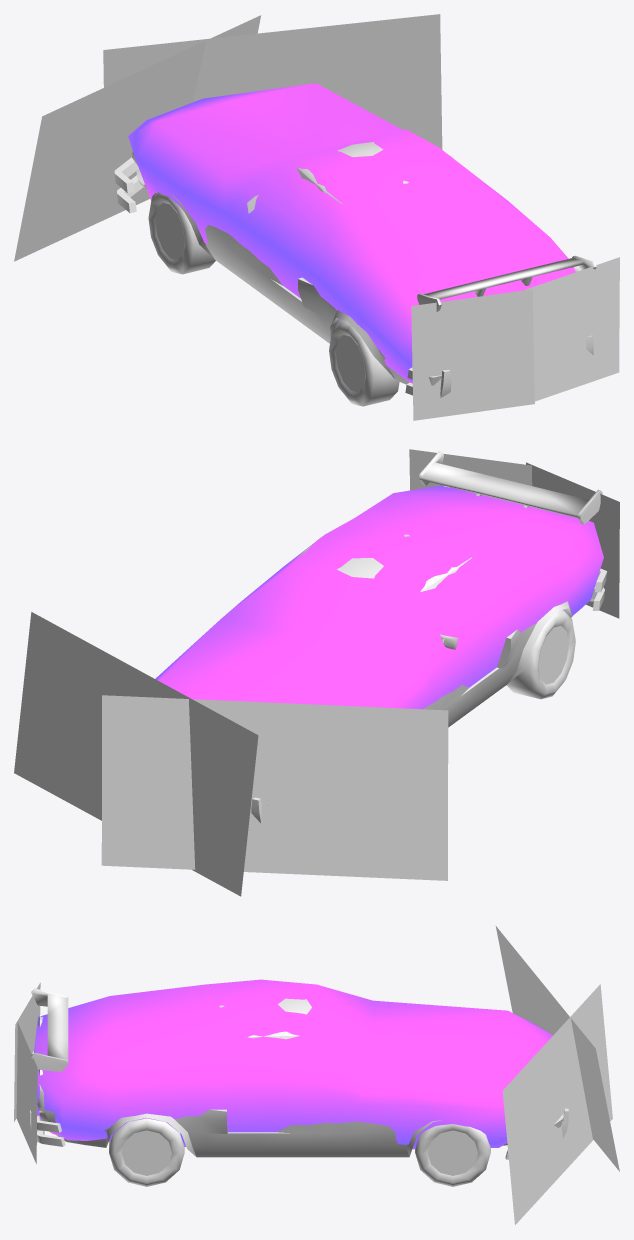
The model's file is Mustang.fbx.
The picture shows the model from 3 angles, top to bottom: view 1: azimuth 30°, elevation 25°; view 2: azimuth 150°, elevation 25°; view 3: azimuth 270°, elevation 25°; orthographic projection. The views are drawn at different scales.
Visible parts, largest first — view 1: MustangProxy, MustangFrontLights, MustangRearLights, Mustang, MustangWheel_LB, MustangWheel_LF, MustangSpoiler1, MustangFrontBumper2, MustangRearBumper2; view 2: MustangFrontLights, MustangProxy, MustangRearLights, Mustang, MustangSpoiler1, MustangWheel_LB; view 3: MustangProxy, MustangFrontLights, Mustang, MustangWheel_RB, MustangWheel_RF, MustangRearLights, MustangSpoiler1, MustangRearBumper2.
Boxes of the visible parts, <box> form: MustangProxy: <box>128,83,575,383</box>; MustangFrontLights: <box>14,14,442,261</box>; MustangRearLights: <box>411,257,619,420</box>; Mustang: <box>132,113,453,384</box>; MustangWheel_LB: <box>329,319,399,406</box>; MustangWheel_LF: <box>148,192,215,274</box>; MustangSpoiler1: <box>417,255,596,311</box>; MustangFrontBumper2: <box>114,157,143,213</box>; MustangRearBumper2: <box>405,335,593,397</box>; MustangFrontLights: <box>14,612,448,896</box>; MustangProxy: <box>155,485,603,709</box>; MustangRearLights: <box>409,449,619,618</box>; Mustang: <box>296,486,572,727</box>; MustangSpoiler1: <box>418,451,602,524</box>; MustangWheel_LB: <box>506,610,575,699</box>; MustangProxy: <box>34,979,552,1149</box>; MustangFrontLights: <box>495,926,619,1224</box>; Mustang: <box>37,998,507,1157</box>; MustangWheel_RB: <box>109,1118,184,1186</box>; MustangWheel_RF: <box>415,1124,490,1186</box>; MustangRearLights: <box>14,982,40,1163</box>; MustangSpoiler1: <box>31,988,68,1071</box>; MustangRearBumper2: <box>30,1051,65,1146</box>.
Size of the model in its own units: 3.89 by 5.65 by 1.49.
